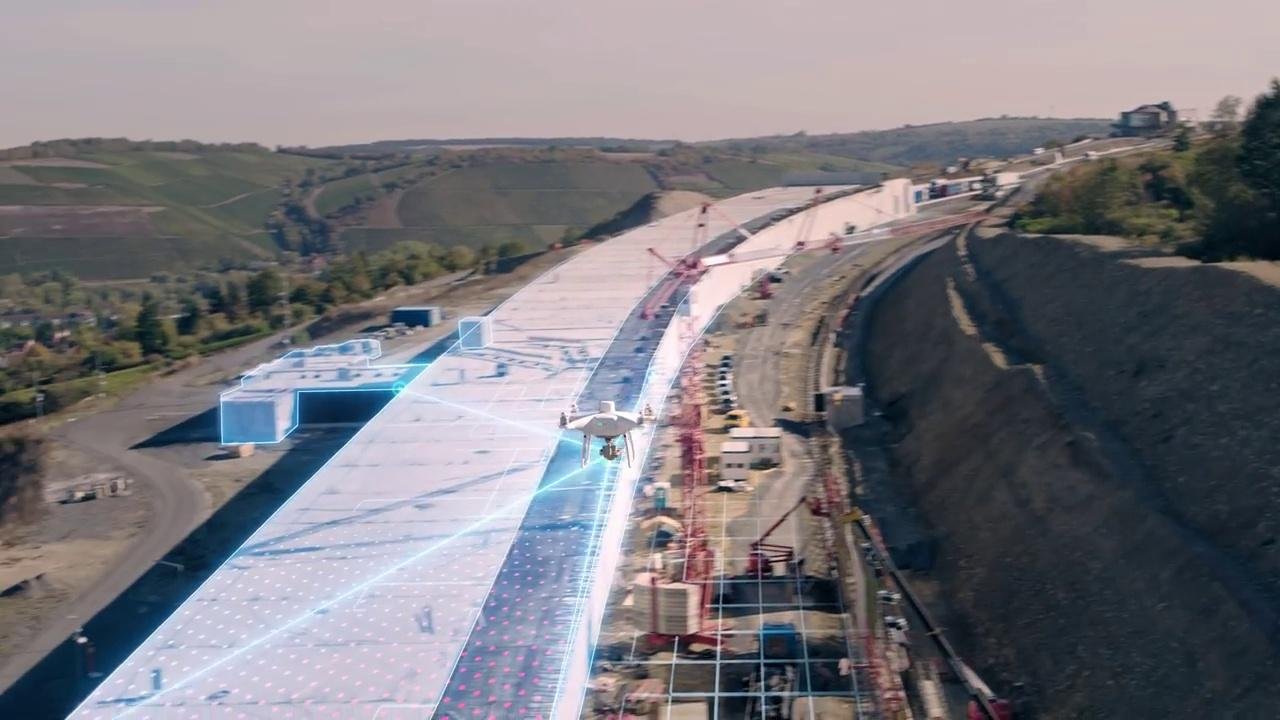drone: (553, 397, 668, 468)
